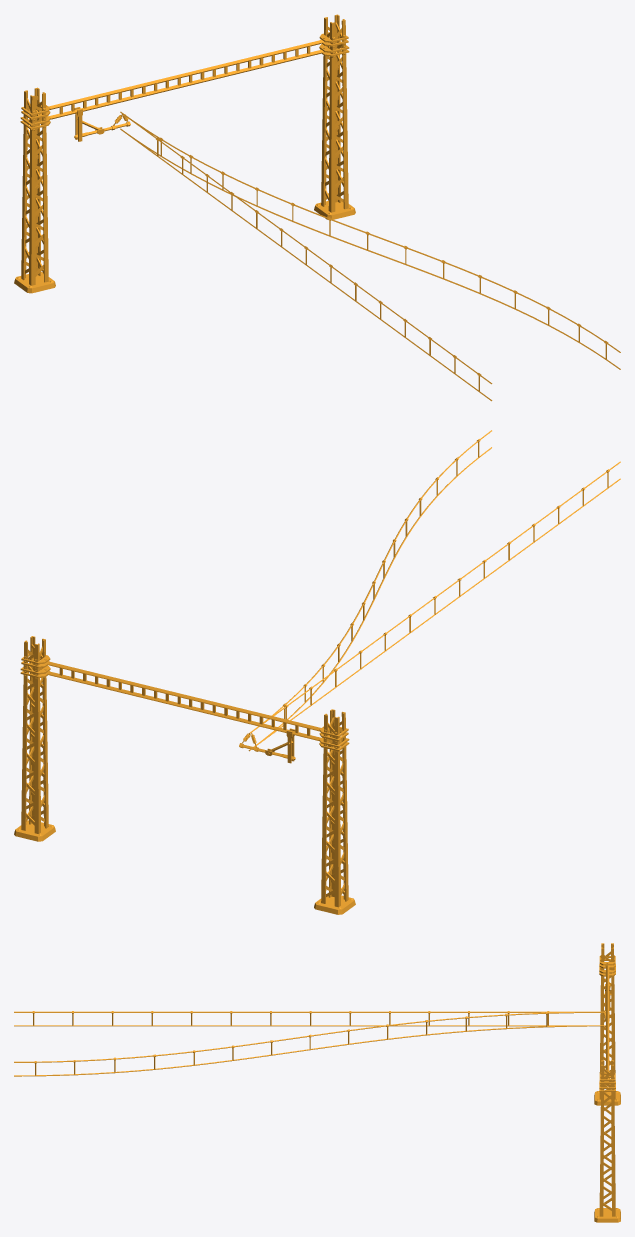
File: SM_Train_Wiring_Switch.fbx
3 renders of one model, top to bottom at view 1: azimuth 30°, elevation 25°; view 2: azimuth 150°, elevation 25°; view 3: azimuth 270°, elevation 25°, orthographic. The views are drawn at different scales.
Visible parts, largest first — view 1: SM_Train_Wiring_Switch; view 2: SM_Train_Wiring_Switch; view 3: SM_Train_Wiring_Switch.
Part boxes in pixels (box(x1,y1,x2,y2)): SM_Train_Wiring_Switch: box(14, 14, 620, 401); SM_Train_Wiring_Switch: box(14, 430, 620, 914); SM_Train_Wiring_Switch: box(14, 943, 620, 1222).
Size of the model in its own units: 15.34 by 8.58 by 30.67.
